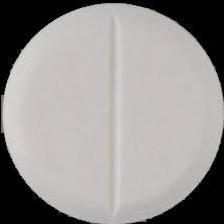53808-0915: (0, 0, 224, 224)
